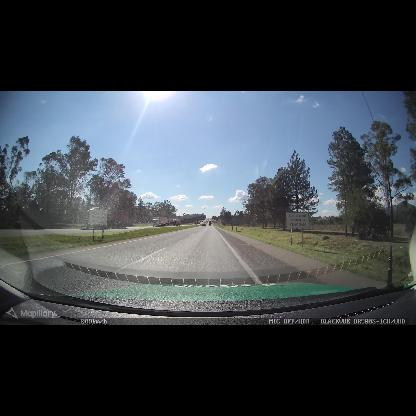I-SA: (286, 212, 309, 228)
